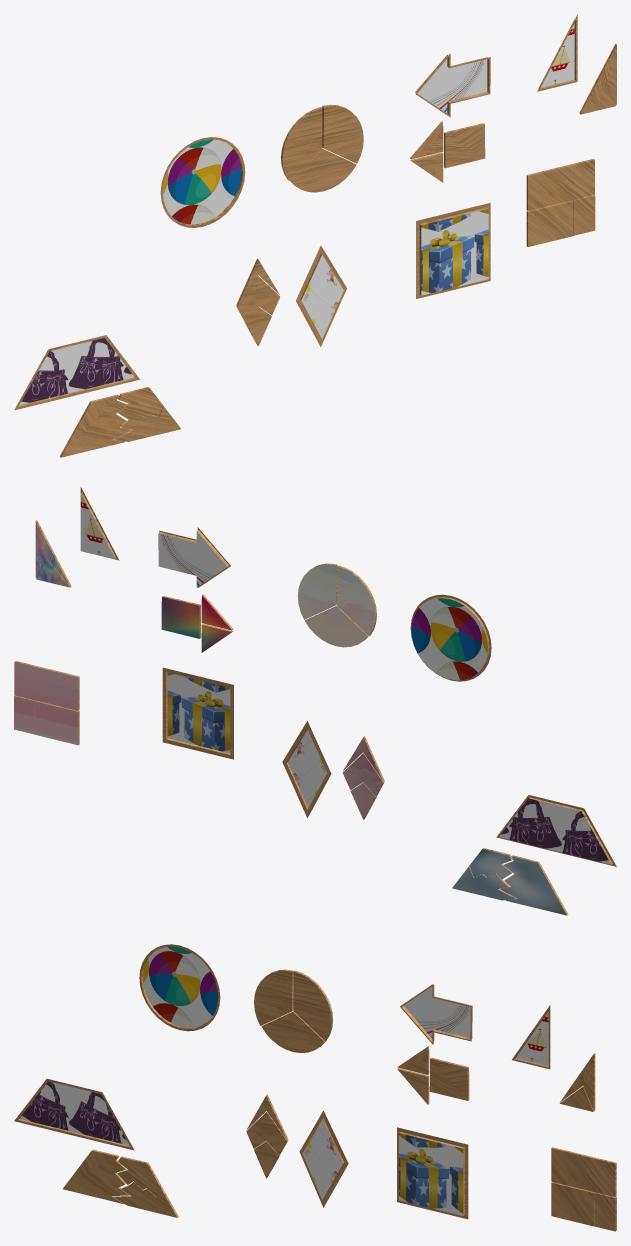
The model's file is level3.fbx.
3 views of the same model, one above another, from view 1: azimuth 30°, elevation 25°; view 2: azimuth 150°, elevation 25°; view 3: azimuth 330°, elevation 25° (orthographic). The views are drawn at different scales.
Visible parts, largest first — view 1: slot_circle, slot_square, slot_trapezoid, slot_arrow, slot_rhombus, piece_square1, piece_trapezoid3, piece_circle2, piece_circle1, piece_square3, piece_circle3, piece_arrow1 (+7 smaller); view 2: slot_circle, slot_square, slot_trapezoid, slot_arrow, slot_rhombus, piece_square1, piece_trapezoid3, piece_circle2, piece_circle1, piece_circle3, piece_square3, piece_arrow1 (+6 smaller); view 3: slot_circle, slot_square, slot_trapezoid, slot_arrow, slot_rhombus, piece_square1, piece_trapezoid3, piece_circle1, piece_circle2, piece_circle3, piece_square3, piece_arrow1 (+11 smaller).
Part boxes in pixels (box(x1,y1,x2,y2)): slot_circle: box(160, 137, 245, 227); slot_square: box(416, 203, 490, 298); slot_trapezoid: box(14, 335, 139, 410); slot_arrow: box(415, 53, 490, 117); slot_rhombus: box(296, 245, 346, 347); piece_square1: box(526, 159, 594, 210); piece_trapezoid3: box(60, 394, 130, 457); piece_circle2: box(281, 107, 322, 180); piece_circle1: box(322, 104, 363, 163); piece_square3: box(526, 200, 573, 246); piece_circle3: box(289, 148, 356, 192); piece_arrow1: box(444, 123, 485, 168); slot_circle: box(410, 594, 491, 681); slot_square: box(162, 667, 233, 759); slot_trapezoid: box(496, 795, 616, 866); slot_arrow: box(158, 527, 230, 587); slot_rhombus: box(282, 721, 331, 818); piece_square1: box(14, 661, 79, 710); piece_trapezoid3: box(500, 855, 568, 915); piece_circle2: box(337, 565, 376, 636); piece_circle1: box(297, 563, 337, 619); piece_circle3: box(305, 605, 368, 647); piece_square3: box(35, 700, 79, 745); piece_arrow1: box(161, 596, 201, 638); slot_circle: box(139, 944, 220, 1031); slot_square: box(397, 1127, 468, 1219); slot_trapezoid: box(14, 1079, 134, 1150); slot_arrow: box(400, 984, 472, 1044); slot_rhombus: box(299, 1110, 348, 1207); piece_square1: box(551, 1147, 616, 1196); piece_trapezoid3: box(63, 1149, 129, 1204); piece_circle1: box(293, 970, 333, 1041); piece_circle2: box(254, 969, 293, 1025); piece_circle3: box(261, 1011, 325, 1052); piece_square3: box(551, 1182, 595, 1226); piece_arrow1: box(429, 1057, 469, 1100).
Bounding box in the file's own units: 1894 × 961 × 185.
Materials: 33 (33 with a texture image).
